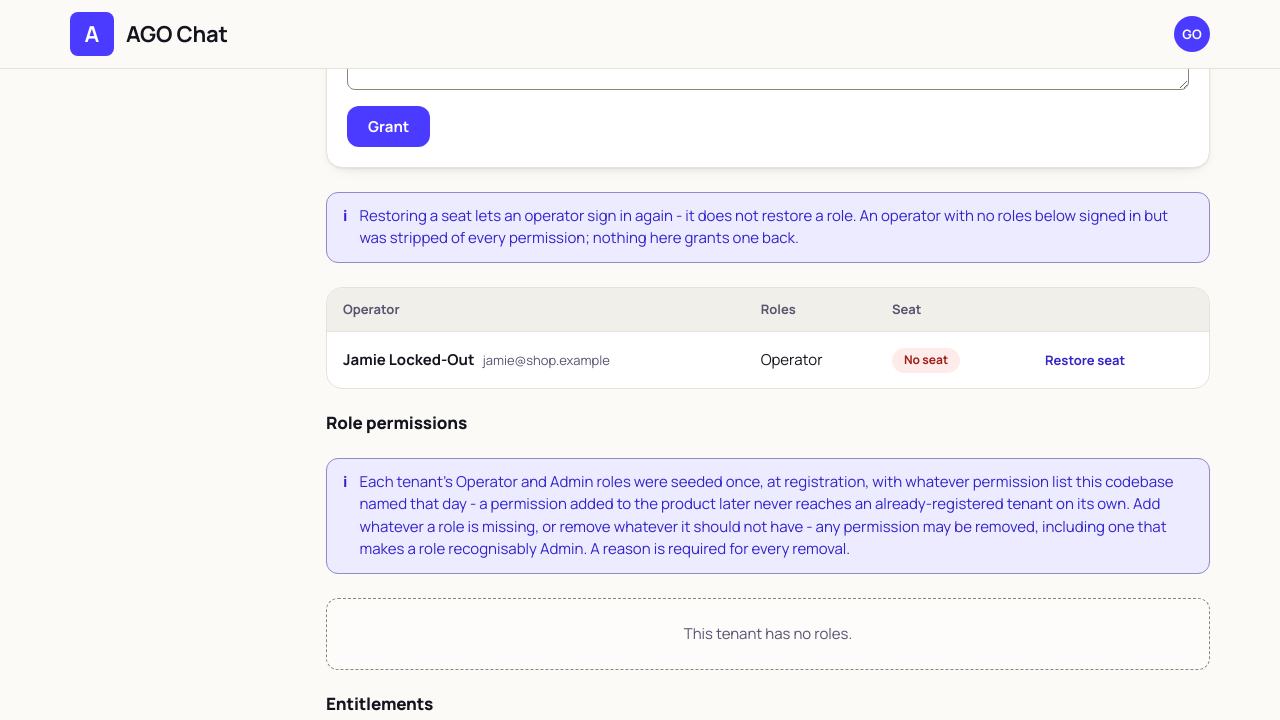
the site detail page's own operator roster › restores a seat within the seat limit with one click, and reloads the tenant's own detail
(page scrolled)
Click the button "Restore seat" at (1085, 360), box [1032,344,1138,376]
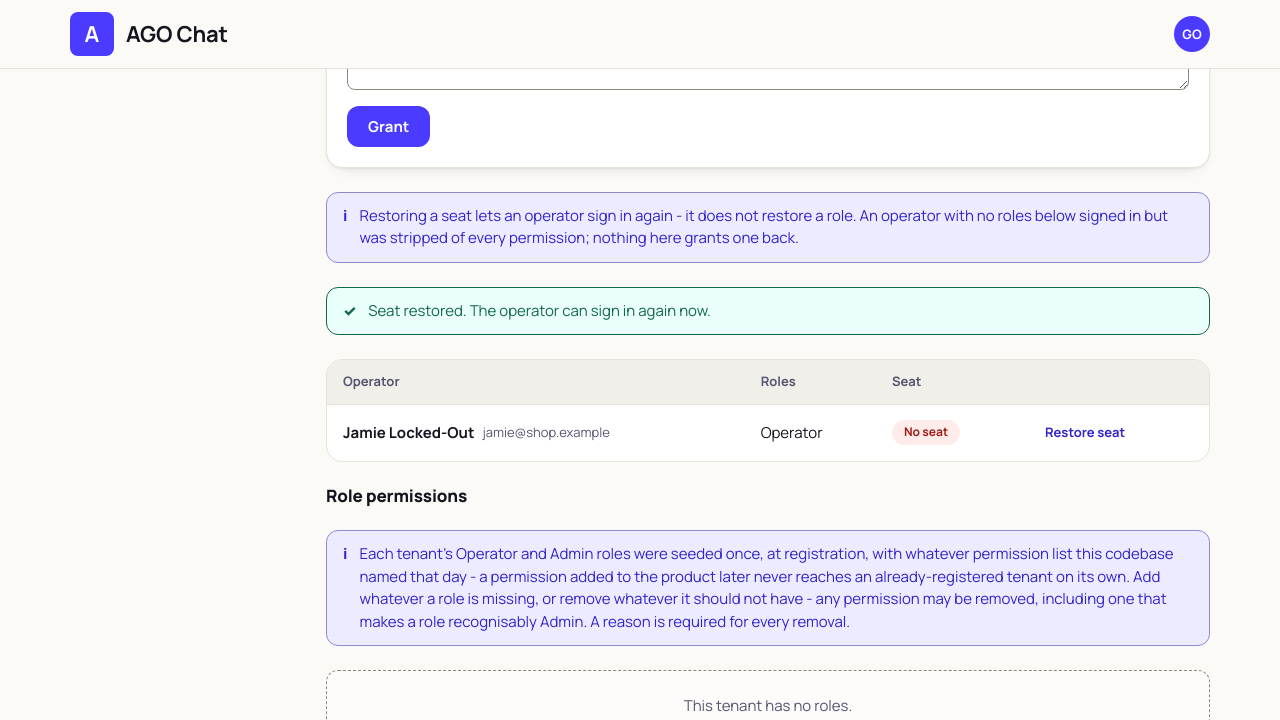
Now the text "Seat restored" is shown, box [368,300,470,321]
Now the text "can sign in again" is shown, box [470,300,711,321]
